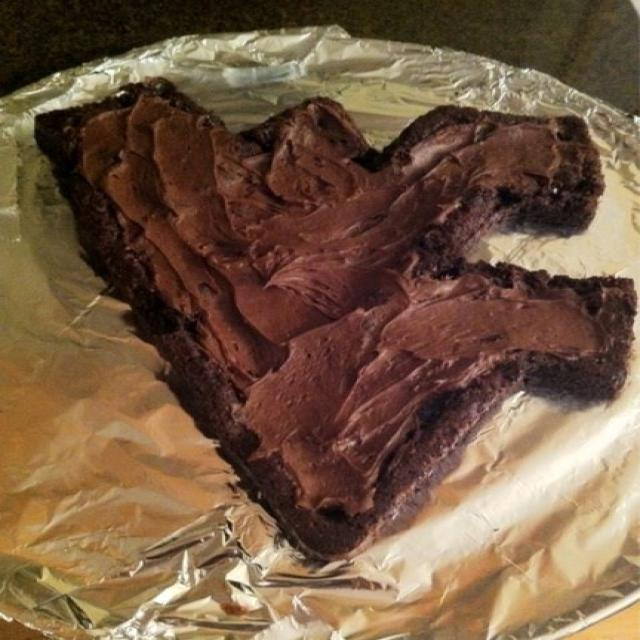蛋糕甜品: (15, 23, 637, 597)
